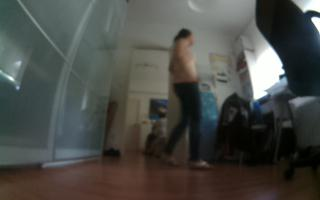person: (159, 25, 220, 172), (140, 112, 173, 158)
